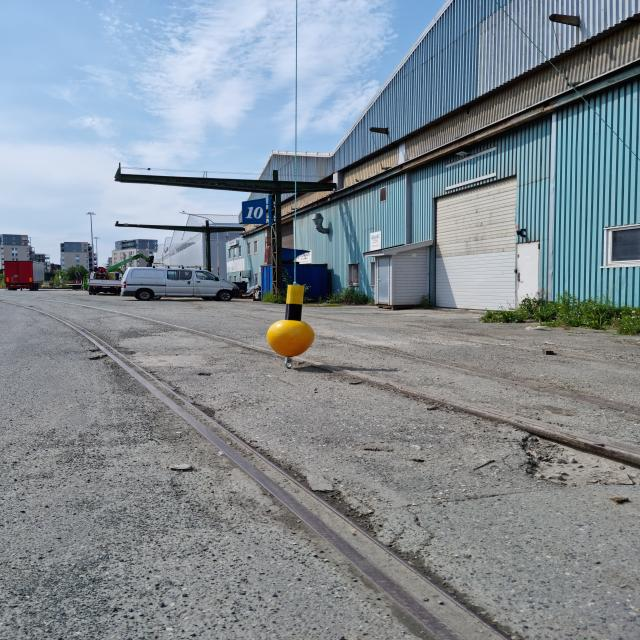west: (266, 284, 314, 356)
